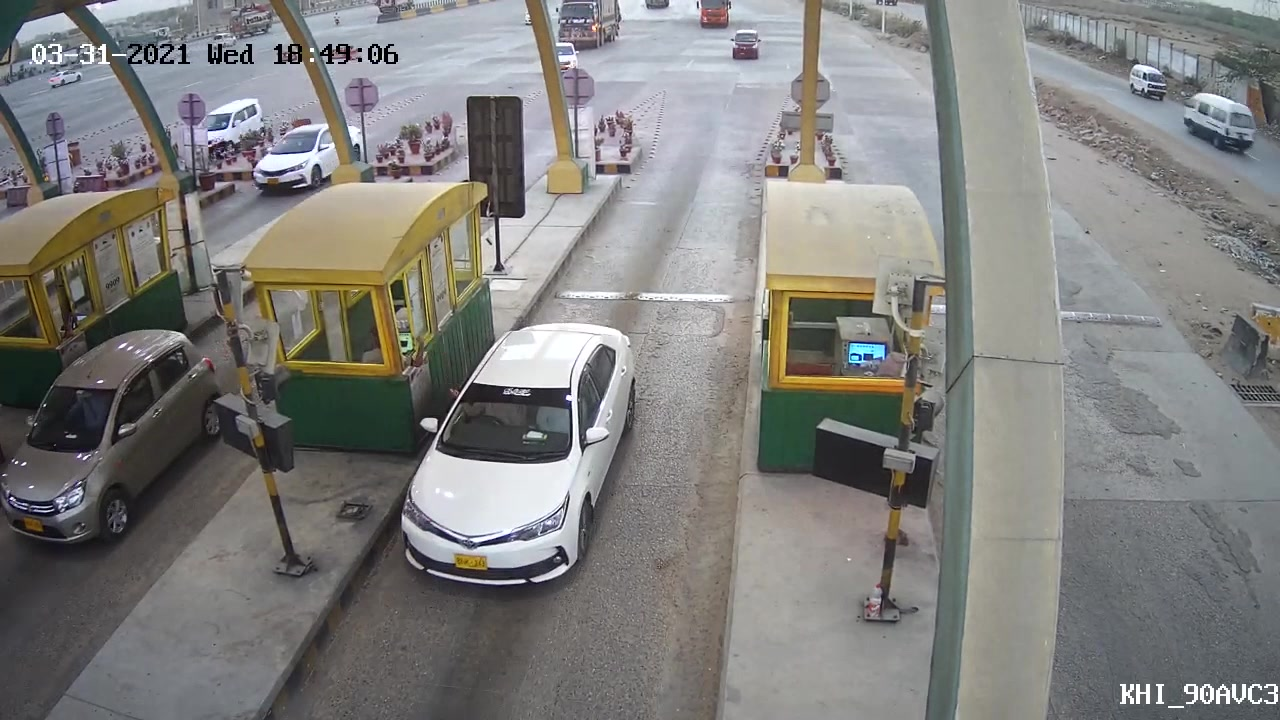F1: (395, 320, 649, 591)
